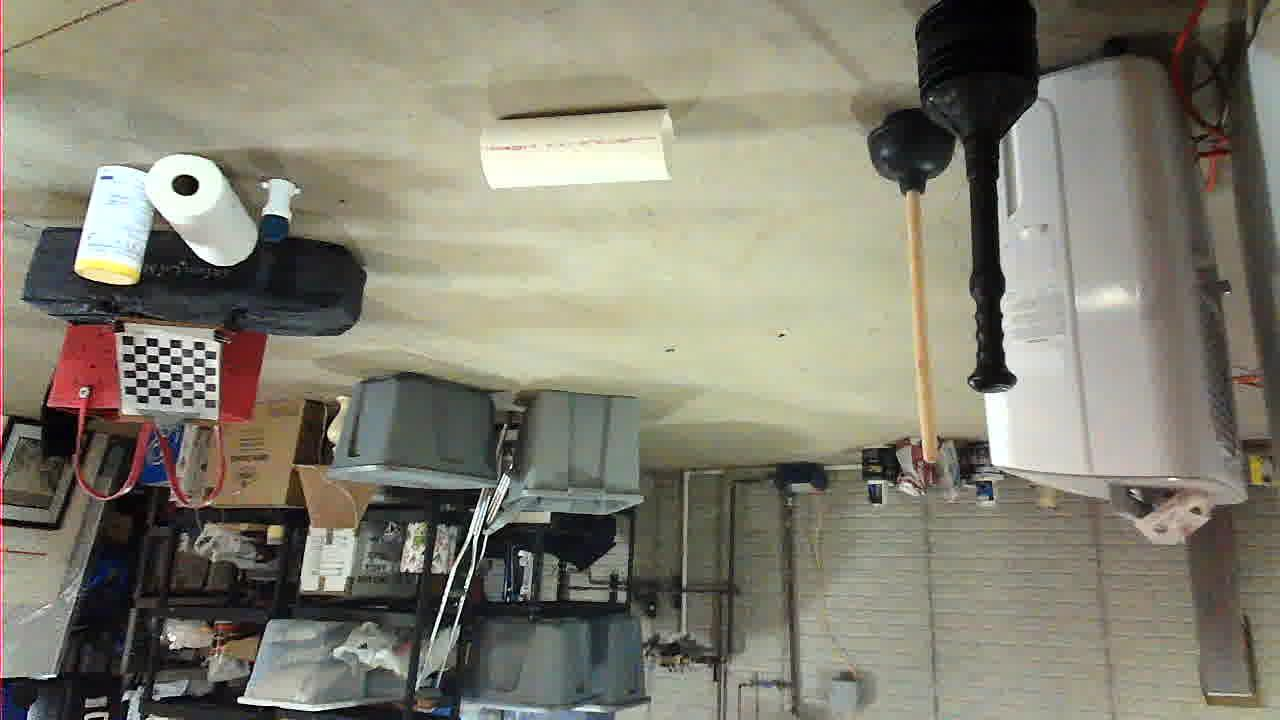coral: (606, 530, 800, 612)
